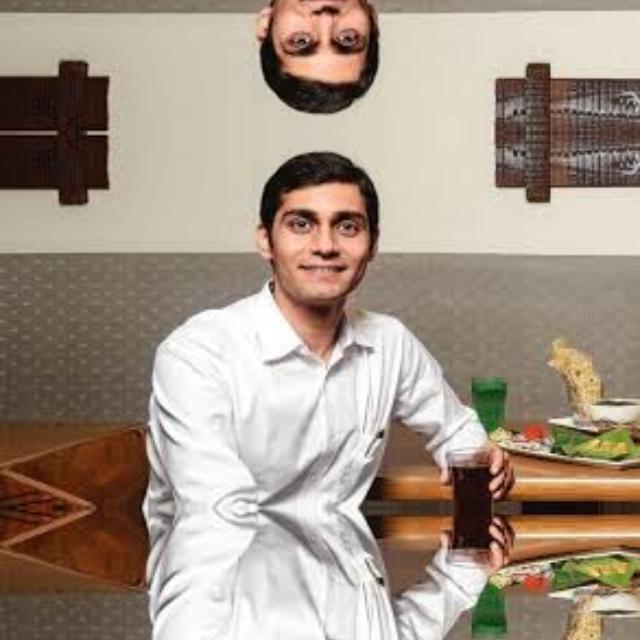person: (154, 134, 436, 508), (153, 508, 436, 640), (153, 0, 436, 130)
